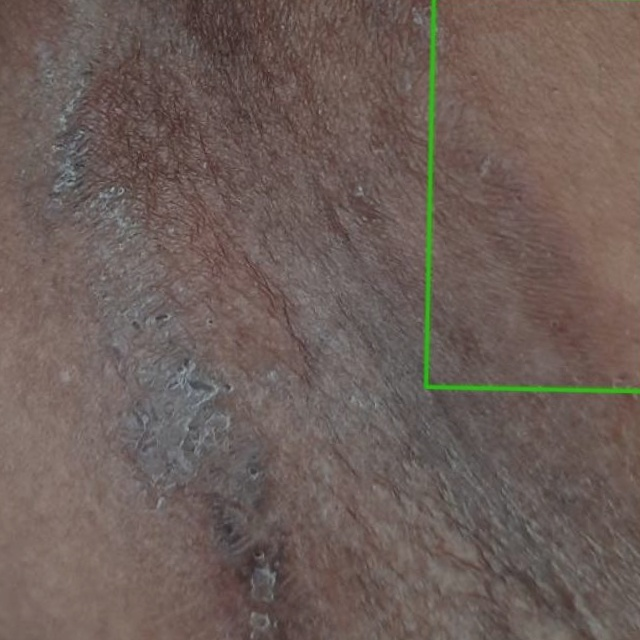Contact Dermatitis: (424, 0, 639, 392)
